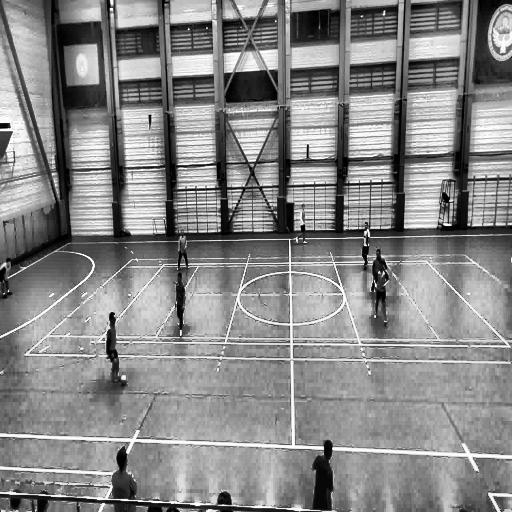ball: (120, 373, 128, 386)
player: (310, 440, 335, 510), (105, 310, 122, 385), (373, 261, 389, 327), (372, 248, 388, 294), (175, 270, 185, 334), (0, 257, 13, 298), (177, 231, 191, 269), (361, 221, 370, 271), (296, 205, 307, 244)
